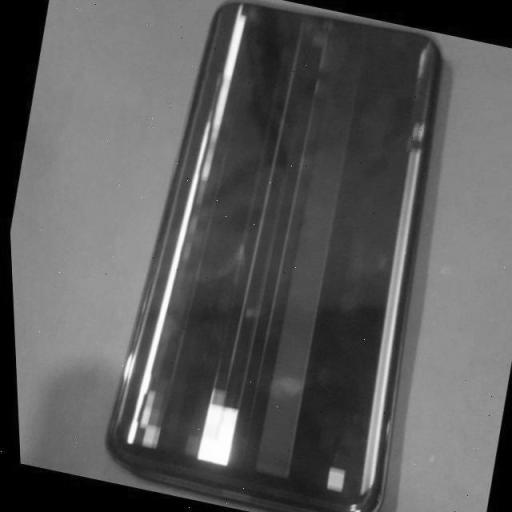phone: (103, 0, 444, 507)
